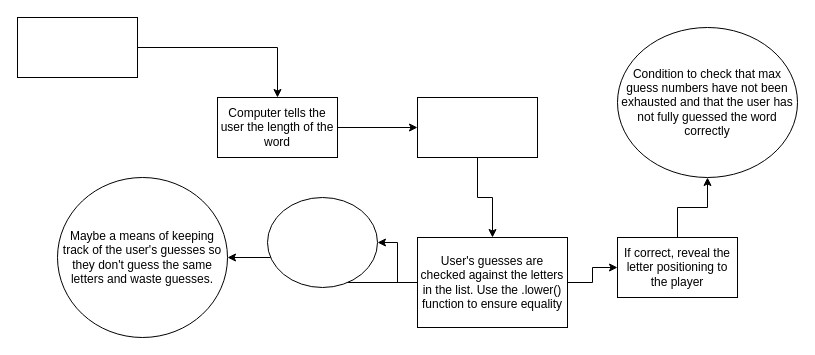
The diagram is 815 pixels wide and 355 high, and some of its shapes have lost their labels. Here are the shapes that lost their labels. From the top down, the centre of each, then its label:
the point at 77,47: Computer selects a random letter based on a list possibly?
the point at 477,127: Maybe put the word in its own list?
the point at 322,242: Keep track of the number of guesses the user has used
